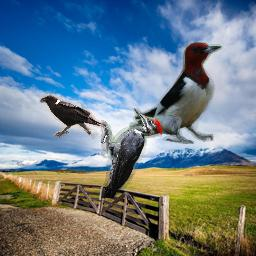Crow: (39, 94, 103, 139)
Woodpecker: (129, 42, 224, 144), (101, 108, 162, 198)
